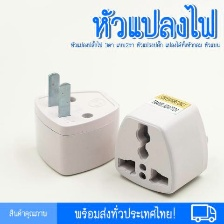three_eye_plug: (102, 86, 212, 200), (28, 67, 125, 182)
